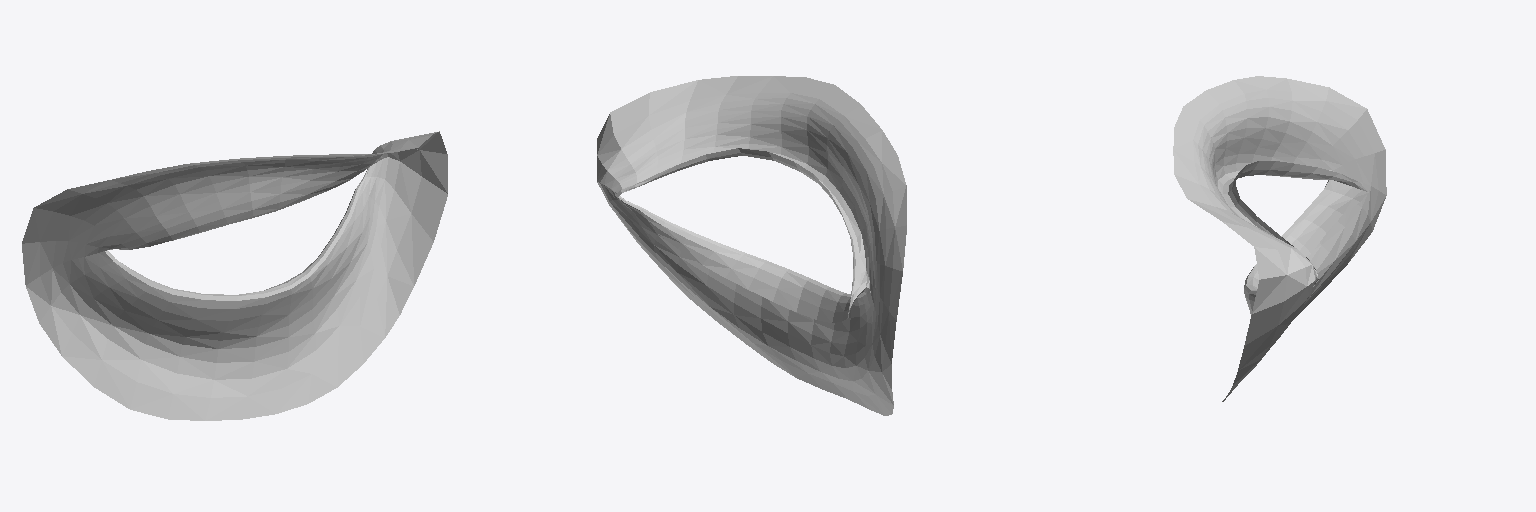
The model's file is orbicularis_oculi_pretarsal_right.obj.
3 renders of one model, left to right at view 1: azimuth 30°, elevation 25°; view 2: azimuth 150°, elevation 25°; view 3: azimuth 270°, elevation 25°, orthographic.
Visible parts, largest first — view 1: Orbicularis_Oculi_Muscle_Right; view 2: Orbicularis_Oculi_Muscle_Right; view 3: Orbicularis_Oculi_Muscle_Right.
Boxes of the visible parts, x1,y1,x2,y2 form: Orbicularis_Oculi_Muscle_Right: [22, 131, 447, 420]; Orbicularis_Oculi_Muscle_Right: [597, 76, 906, 415]; Orbicularis_Oculi_Muscle_Right: [1173, 76, 1386, 401].
Bounding box in the file's own units: 0.4633 × 0.3423 × 0.2359.